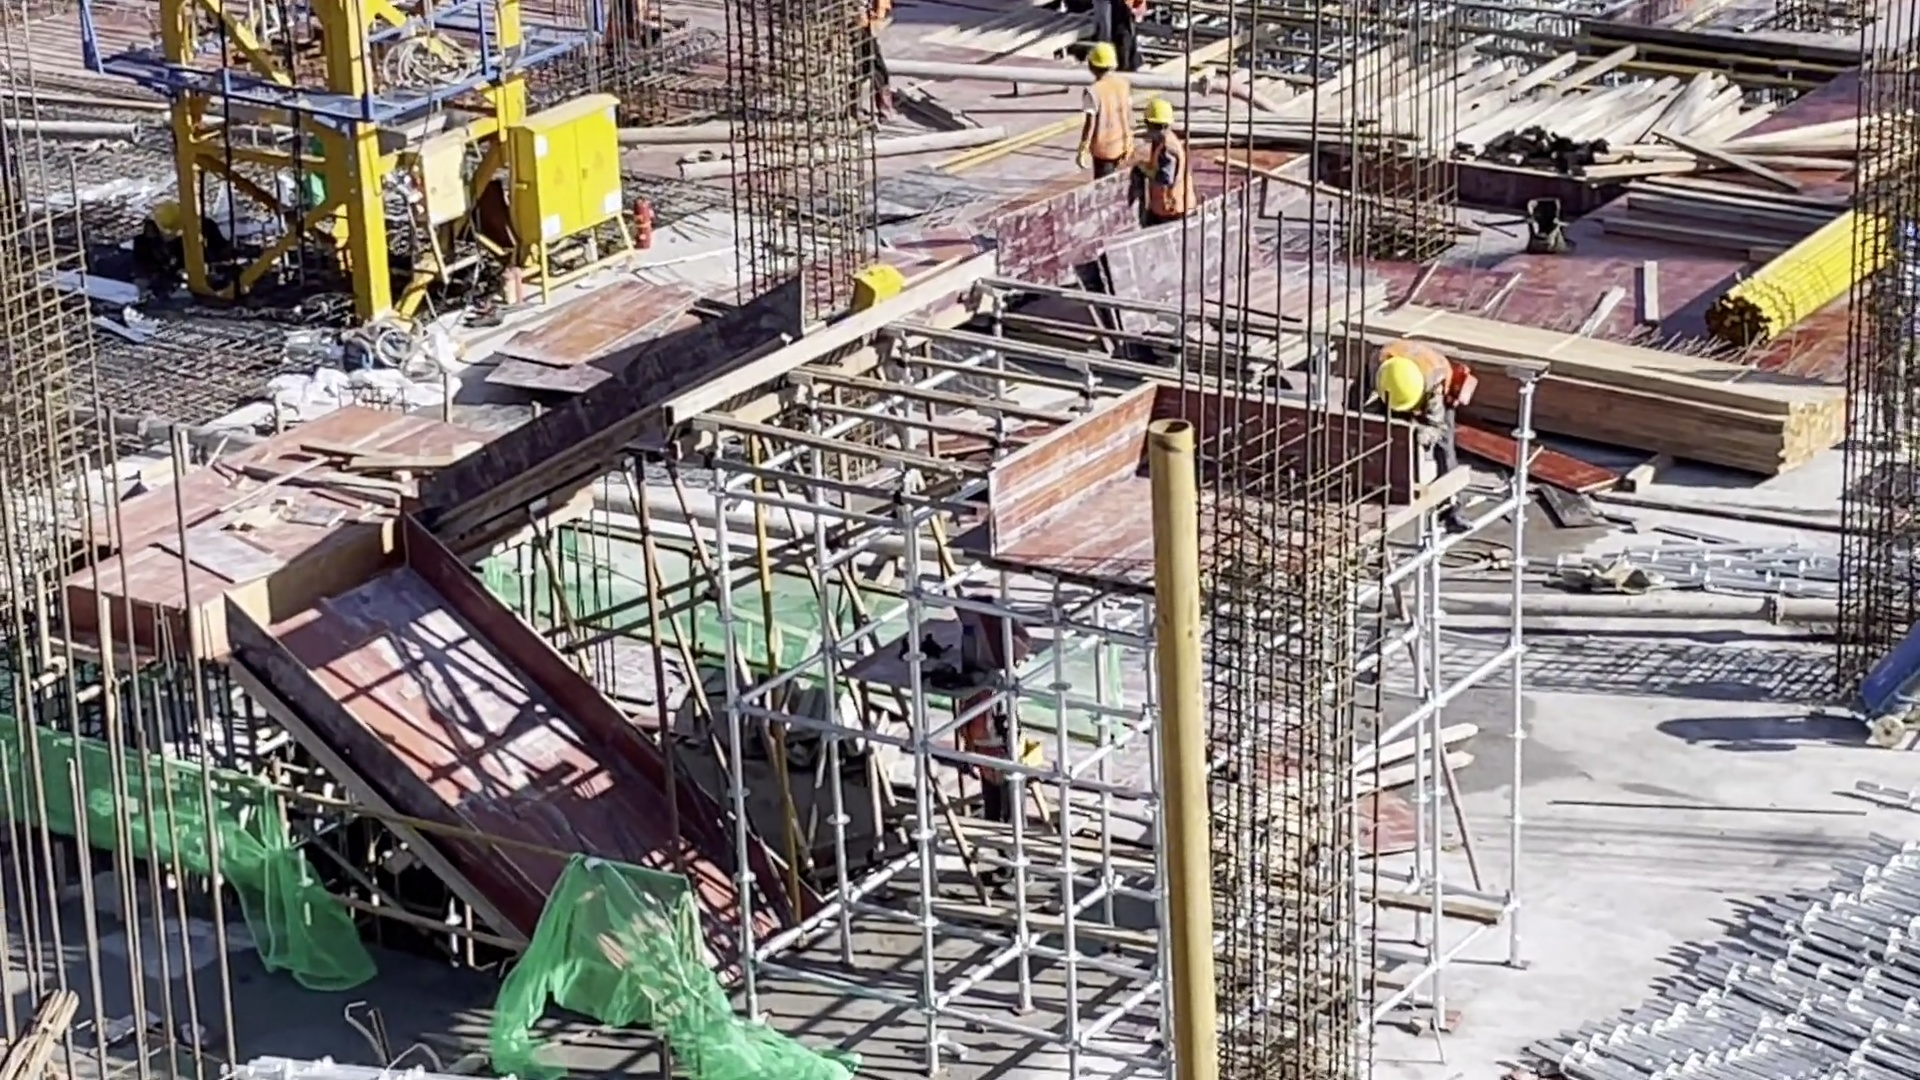helmet: (1383, 361, 1421, 412), (154, 205, 187, 238), (1088, 43, 1118, 66), (1147, 102, 1176, 123)
person: (1341, 341, 1484, 537), (952, 689, 1049, 835), (1067, 43, 1133, 185), (133, 205, 234, 295), (1141, 102, 1195, 224), (847, 5, 898, 119)
vest: (1078, 75, 1125, 166), (1380, 336, 1454, 382), (1154, 134, 1191, 223)
